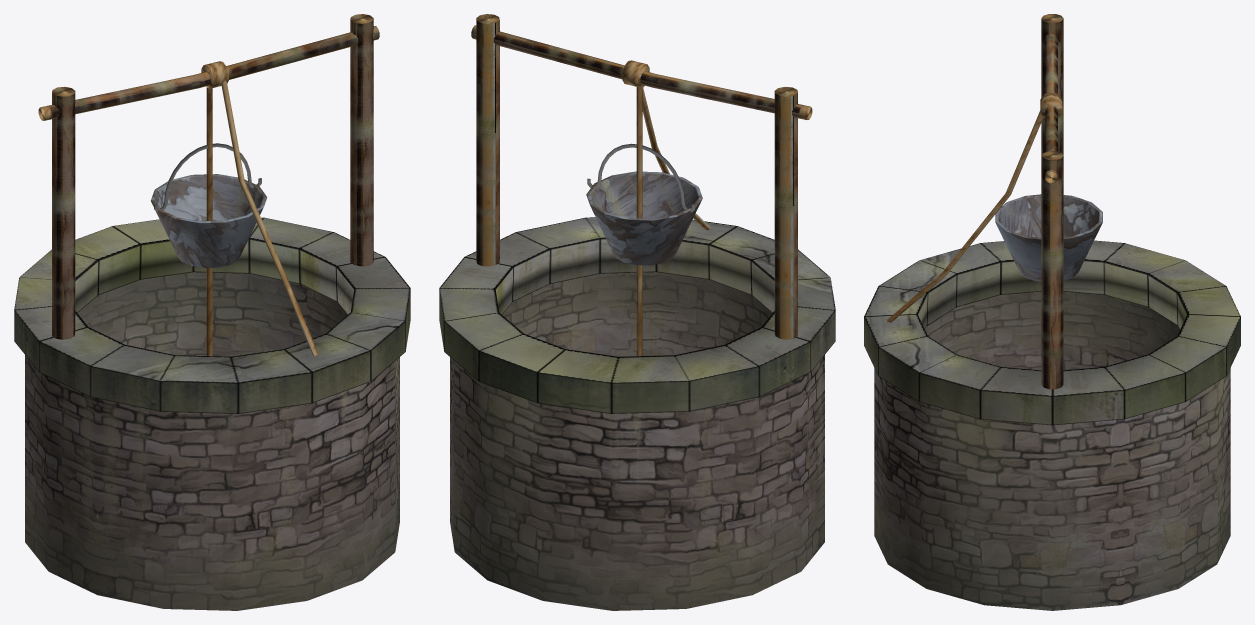
File: Water_Wall.fbx
The picture shows the model from 3 angles, left to right: view 1: azimuth 30°, elevation 25°; view 2: azimuth 150°, elevation 25°; view 3: azimuth 270°, elevation 25°; orthographic projection. The views are drawn at different scales.
Visible parts, largest first — view 1: Structure, Bucket, Rope2, Rope; view 2: Structure, Bucket, Rope, Rope2, Rope1; view 3: Structure, Bucket, Rope2.
Part boxes in pixels (x1=…): Structure: x1=14, y1=14, x2=410, y2=610; Bucket: x1=150, y1=143, x2=267, y2=267; Rope2: x1=221, y1=80, x2=318, y2=355; Rope: x1=206, y1=88, x2=212, y2=356; Structure: x1=439, y1=14, x2=835, y2=610; Bucket: x1=586, y1=143, x2=702, y2=265; Rope: x1=636, y1=87, x2=642, y2=356; Rope2: x1=642, y1=87, x2=710, y2=229; Rope1: x1=622, y1=60, x2=649, y2=87; Structure: x1=864, y1=14, x2=1240, y2=610; Bucket: x1=995, y1=194, x2=1102, y2=281; Rope2: x1=887, y1=111, x2=1043, y2=322.
Bounding box in the file's own units: 114 × 150 × 114.
